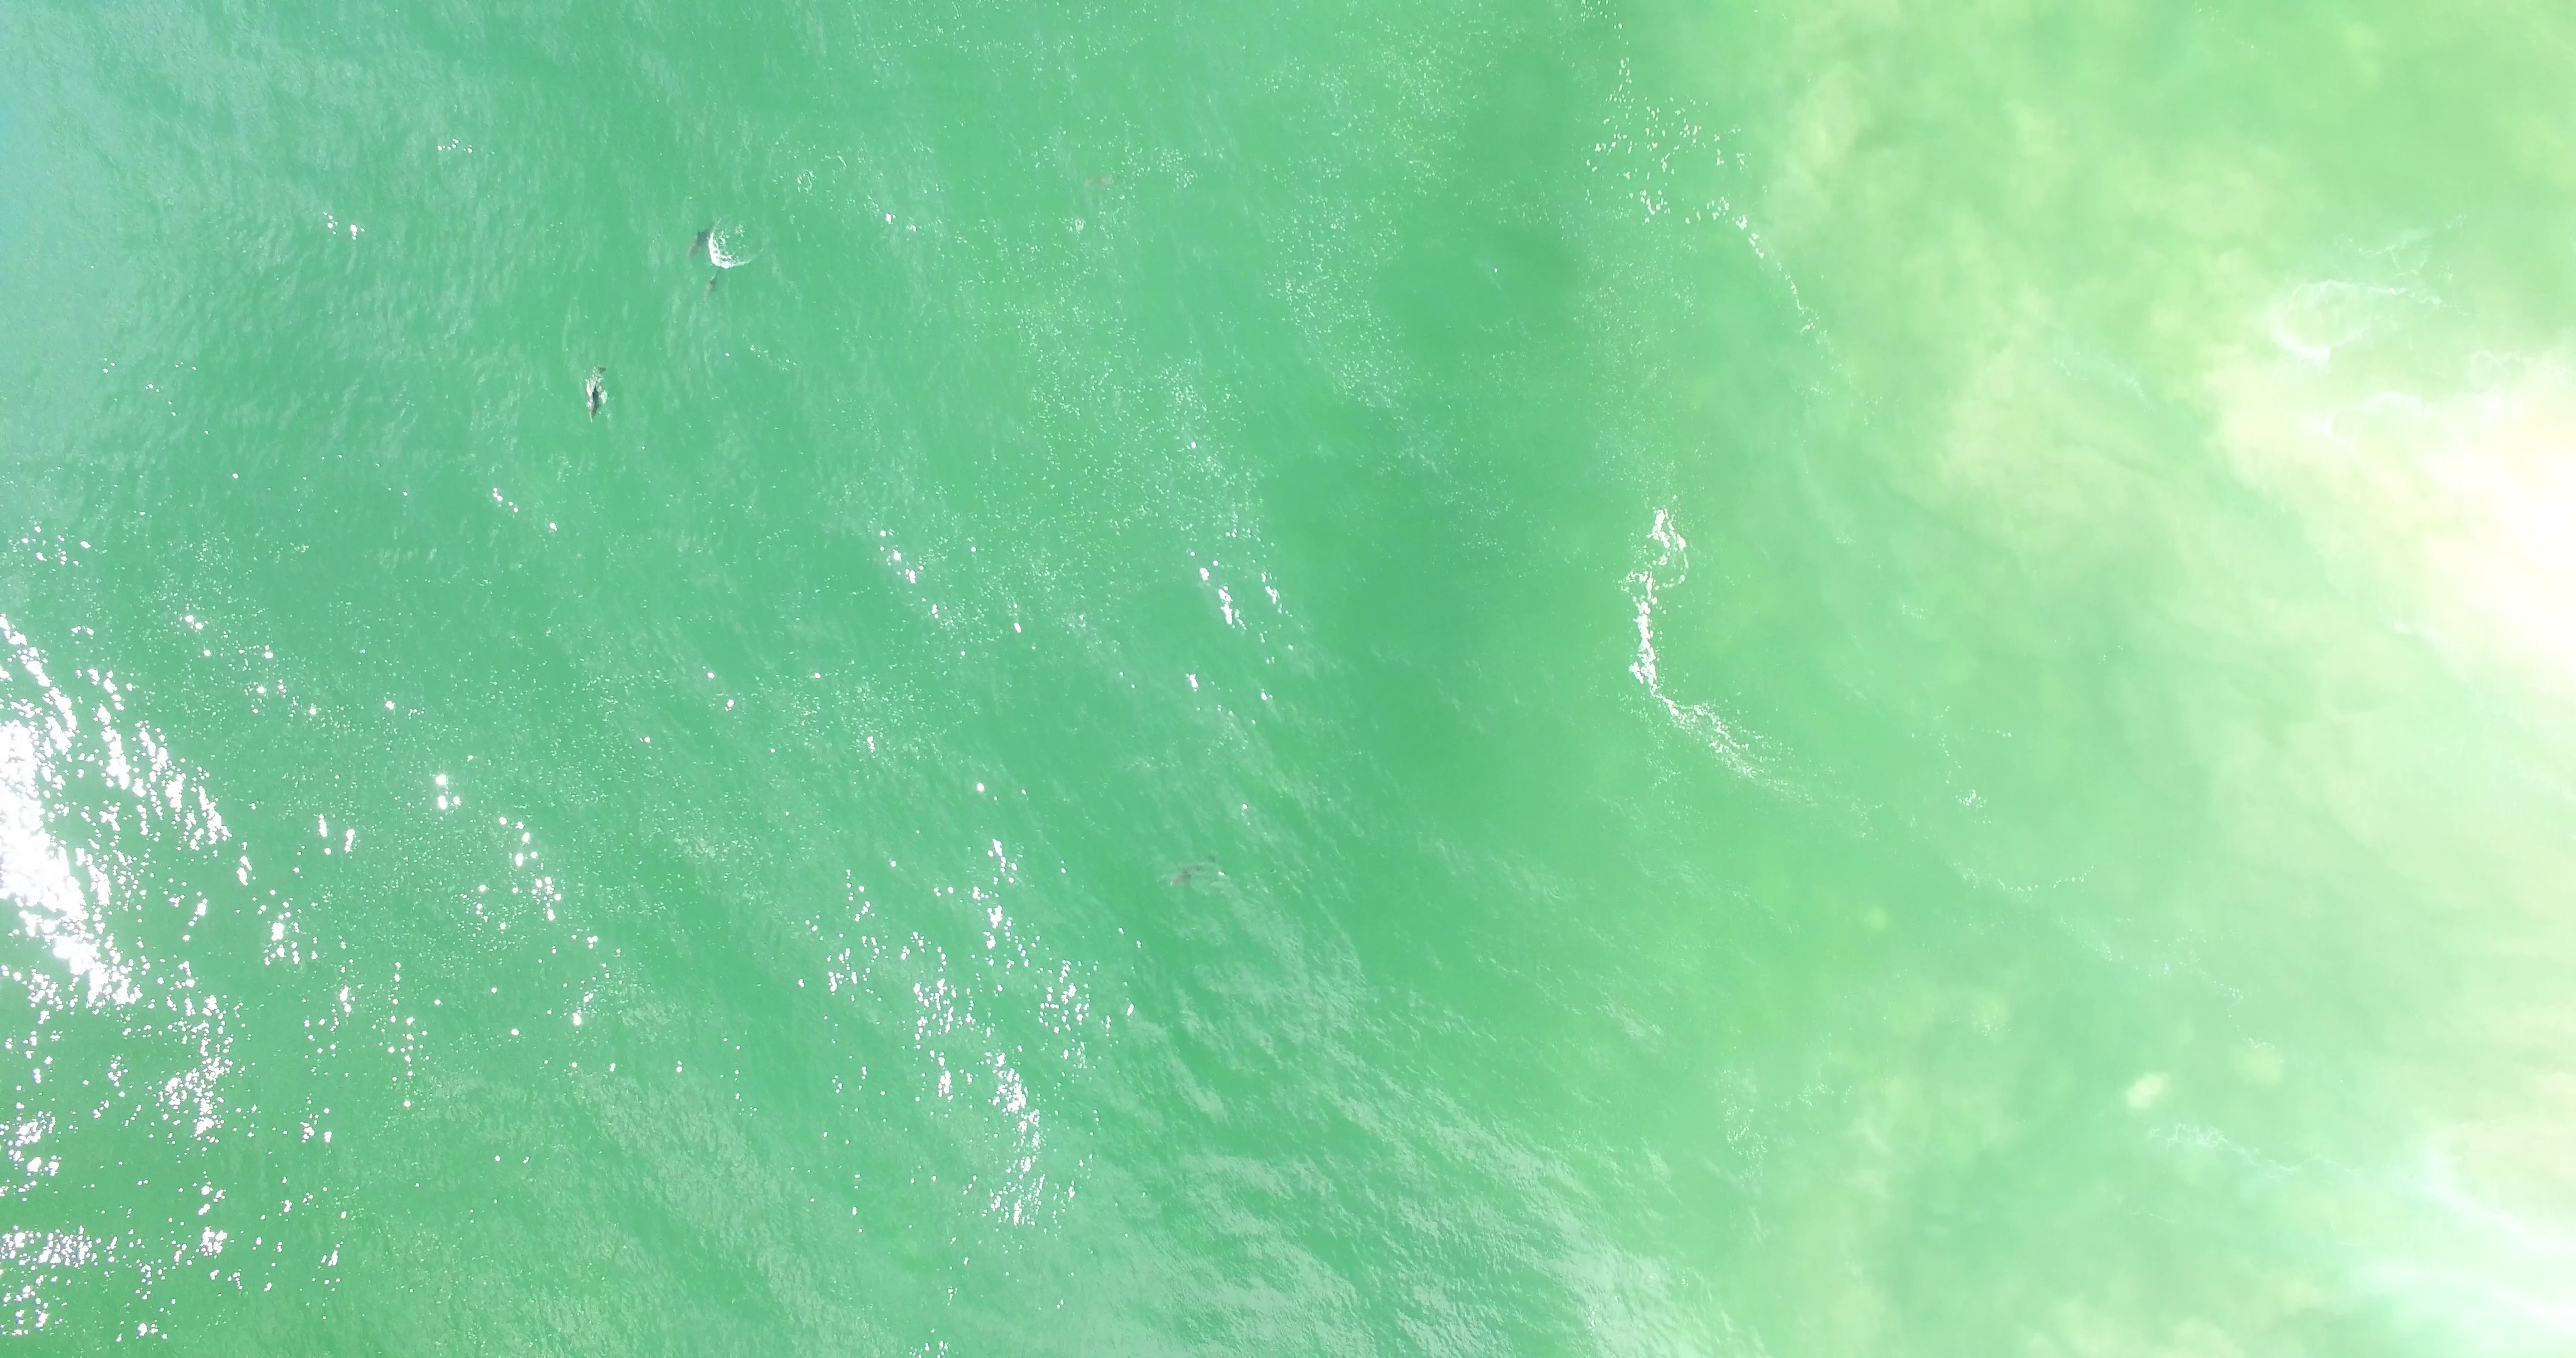dolphin: (1167, 855, 1222, 888), (702, 254, 731, 302), (687, 216, 719, 257), (584, 365, 608, 419)
